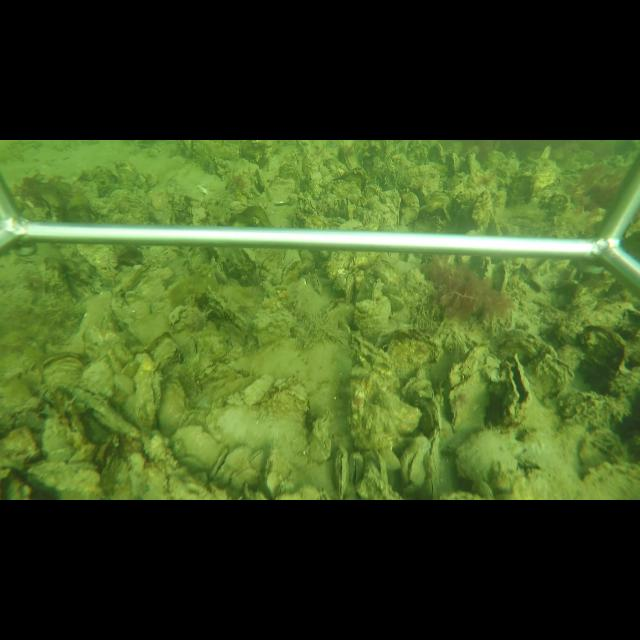Oyster-Closed: (345, 332, 422, 453), (106, 264, 174, 348), (448, 341, 500, 433), (412, 372, 445, 499), (204, 283, 251, 341), (134, 359, 167, 430), (263, 446, 298, 498), (239, 375, 276, 410), (300, 189, 332, 228), (332, 447, 349, 499)
Oyster-Open: (501, 352, 535, 427), (397, 435, 429, 488), (208, 446, 254, 481), (350, 451, 364, 488)
